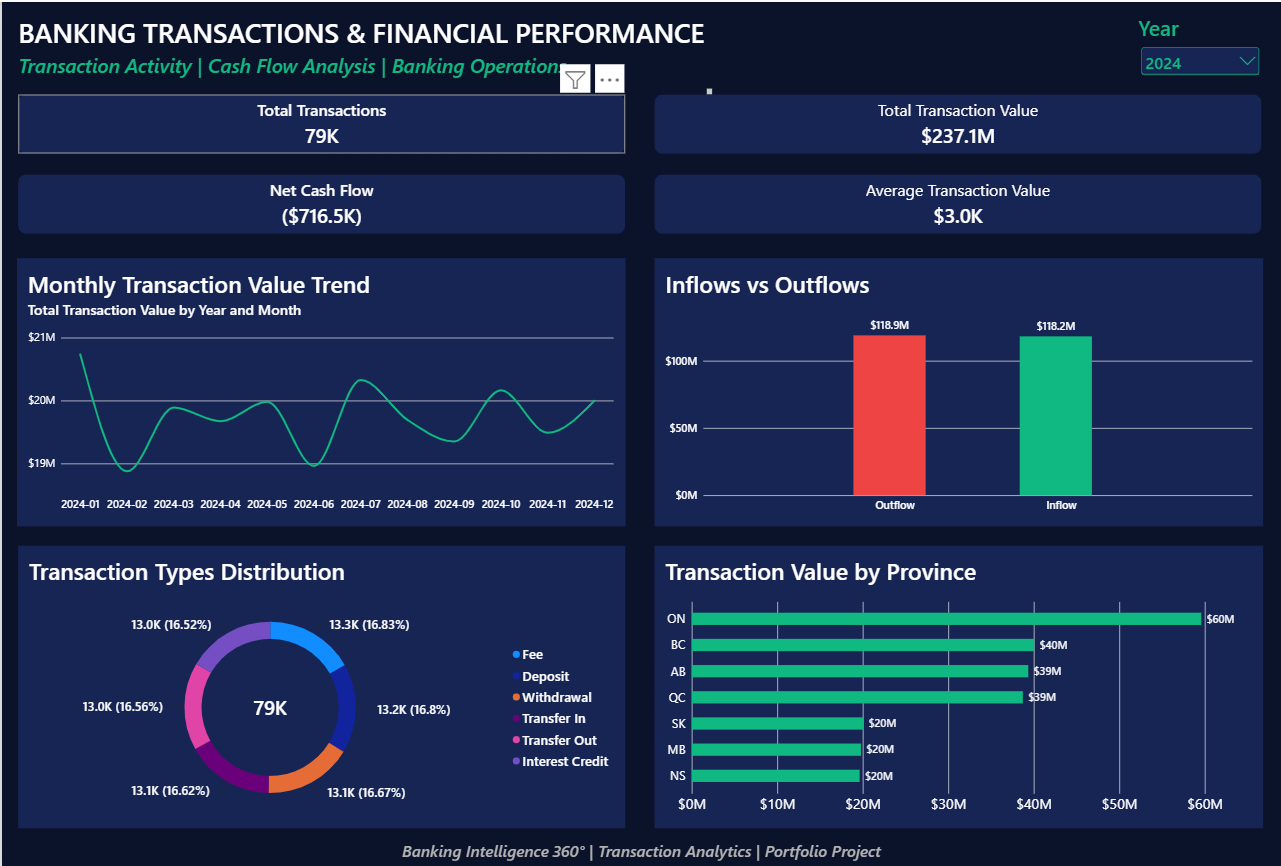

What the dashboard file says about the page in this screenshot:
{"tool":"powerbi","page":{"name":"Banking Transactions & Financial Performance","canvas":[1920,1300],"ordinal":3},"visuals":[{"type":"textbox","title":"BANKING TRANSACTIONS & FINANCIAL PERFORMANCE","box":[23.5,18.8,1041.9,119.7],"z":0},{"type":"cardVisual","fields":{"Data":["_Measures (2).Total Transactions"]},"box":[24.2,138.1,911.3,89.7],"z":1000},{"type":"cardVisual","fields":{"Data":["_Measures (2).Total Transaction Value"]},"box":[979.2,138.1,911.3,89.7],"z":2000},{"type":"cardVisual","fields":{"Data":["_Measures (2).Average Transaction Value"]},"box":[979.2,259.3,911.3,89.7],"z":3000},{"type":"cardVisual","fields":{"Data":["_Measures (2).Net Cash Flow"]},"box":[24.2,259.3,911.3,89.7],"z":4000},{"type":"lineChart","title":"Monthly Transaction Value Trend","fields":{"Category":["DateTable.Year Month"],"Y":["_Measures (2).Total Transaction Value"]},"box":[21.8,385.4,913.7,402.3],"z":5000},{"type":"donutChart","title":"Transaction Types Distribution","fields":{"Category":["Transactions.TransactionType"],"Y":["_Measures (2).Total Transactions"]},"box":[24.2,816.8,911.3,424.1],"z":6000},{"type":"clusteredColumnChart","title":"Inflows vs Outflows","fields":{"Category":["Transactions.FlowDirection"],"Y":["_Measures (2).Total Transaction Value"]},"box":[979.2,385.4,913.7,402.3],"z":7000},{"type":"clusteredBarChart","title":"Transaction Value by Province","fields":{"Category":["Branches.Province"],"Y":["_Measures (2).Total Transaction Value"]},"box":[979.2,816.8,913.7,424.1],"z":8000},{"type":"slicer","title":"Year","fields":{"Values":["DateTable.Year"]},"box":[1706.3,17,186.6,118.8],"z":9000},{"type":"textbox","title":"Banking Intelligence 360° | Transaction Analytics | Portfolio Project","box":[564.7,1257.9,790.1,41.2],"z":10000}]}

Visuals, with their boxes in screenshot pixels (x1, y1, x2, y2), scaled from the page's 1920x1300 canvas onto the 1281x866 screenshot:
"BANKING TRANSACTIONS & FINANCIAL PERFORMANCE" textbox: BBox(16, 13, 711, 92)
cardVisual - _Measures (2).Total Transactions: BBox(16, 92, 624, 152)
cardVisual - _Measures (2).Total Transaction Value: BBox(653, 92, 1261, 152)
cardVisual - _Measures (2).Average Transaction Value: BBox(653, 173, 1261, 232)
cardVisual - _Measures (2).Net Cash Flow: BBox(16, 173, 624, 232)
"Monthly Transaction Value Trend" lineChart: BBox(15, 257, 624, 525)
"Transaction Types Distribution" donutChart: BBox(16, 544, 624, 827)
"Inflows vs Outflows" clusteredColumnChart: BBox(653, 257, 1263, 525)
"Transaction Value by Province" clusteredBarChart: BBox(653, 544, 1263, 827)
"Year" slicer: BBox(1138, 11, 1263, 90)
"Banking Intelligence 360° | Transaction Analytics | Portfolio Project" textbox: BBox(377, 838, 904, 865)
